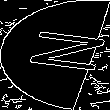N_E: (7, 30, 103, 80)
